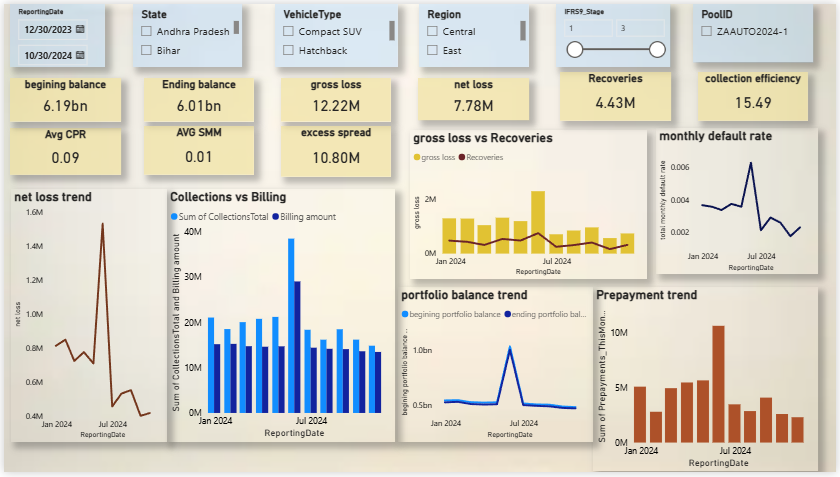

The page's visual inventory and layout, read from the dashboard file:
{"tool":"powerbi","page":{"name":"monthly loss","canvas":[1280,720],"ordinal":5},"visuals":[{"type":"slicer","fields":{"Values":["loans.Region"]},"box":[638.9,0,169.4,97.2],"z":0},{"type":"slicer","fields":{"Values":["loans.State"]},"box":[198.6,0,168.1,97.2],"z":1000},{"type":"slicer","fields":{"Values":["loans.VehicleType"]},"box":[416.7,0,188.9,97.2],"z":2000},{"type":"slicer","fields":{"Values":["loans.IFRS9_Stage"]},"box":[848.6,0,176.4,97.2],"z":3000},{"type":"slicer","fields":{"Values":["loans.PoolID"]},"box":[1059.7,0,184.7,90.3],"z":4000},{"type":"slicer","fields":{"Values":["dynamicloss.ReportingDate"]},"box":[9.7,0,145.8,97.2],"z":5000},{"type":"kpi","title":"Avg CPR","fields":{"Indicator":["dynamicloss.Avg CPR"],"TrendLine":["dpd.LoanID"]},"box":[9.7,190.3,170.8,72.2],"z":6000},{"type":"kpi","title":"Ending  balance","fields":{"Indicator":["dynamicloss.ending portfolio balance"],"TrendLine":["dpd.LoanID"]},"box":[215.3,113.9,169.4,66.7],"z":7000},{"type":"kpi","title":"Recoveries","fields":{"Indicator":["dynamicloss.Recoveries"],"TrendLine":["dpd.LoanID"]},"box":[855.6,104.2,170.8,75],"z":8000},{"type":"kpi","title":"AVG SMM ","fields":{"Indicator":["dynamicloss.AVG SMM"],"TrendLine":["dpd.LoanID"]},"box":[215.3,187.5,169.4,75],"z":9000},{"type":"kpi","title":"collection efficiency","fields":{"Indicator":["dynamicloss.total collection efficiency"],"TrendLine":["dpd.LoanID"]},"box":[1068.1,104.2,169.4,75],"z":10000},{"type":"kpi","title":"net loss ","fields":{"Indicator":["dynamicloss.net loss"],"TrendLine":["dpd.LoanID"]},"box":[637.5,113.9,170.8,65.3],"z":11000},{"type":"kpi","title":"gross loss","fields":{"Indicator":["dynamicloss.gross loss"],"TrendLine":["dpd.LoanID"]},"box":[426.4,113.9,169.4,66.7],"z":12000},{"type":"kpi","title":"excess spread ","fields":{"Indicator":["dynamicloss.excess spread"],"TrendLine":["dpd.LoanID"]},"box":[426.4,187.5,169.4,77.8],"z":13000},{"type":"kpi","title":"begining balance ","fields":{"Indicator":["dynamicloss.begining portfolio balance"],"TrendLine":["dpd.LoanID"]},"box":[9.7,113.9,170.8,66.7],"z":14000},{"type":"lineChart","title":"net loss trend","fields":{"Category":["dynamicloss.ReportingDate"],"Y":["dynamicloss.net loss"]},"box":[10.1,285.1,240.5,388.8],"z":17000},{"type":"lineStackedColumnComboChart","title":"gross loss vs Recoveries ","fields":{"Category":["dynamicloss.ReportingDate"],"Y":["dynamicloss.gross loss"],"Y2":["dynamicloss.Recoveries"]},"box":[625,194.4,363.9,229.2],"z":18000},{"type":"clusteredColumnChart","title":" Collections vs Billing","fields":{"Category":["dynamicloss.ReportingDate"],"Y":["Sum(dynamicloss.CollectionsTotal)","dynamicloss.Billing amount"]},"box":[250,284.7,351.4,388.9],"z":19000},{"type":"lineChart","title":"portfolio balance trend","fields":{"Y":["dynamicloss.begining portfolio balance","dynamicloss.ending portfolio balance"],"Category":["dynamicloss.ReportingDate"]},"box":[605.6,436.1,300,237.5],"z":20000},{"type":"lineChart","title":" monthly default rate ","fields":{"Y":["dynamicloss.total monthly default rate"],"Category":["dynamicloss.ReportingDate"]},"box":[1002.8,190.3,248.6,225],"z":21000},{"type":"columnChart","title":"Prepayment trend","fields":{"Y":["Sum(dynamicloss.Prepayments_ThisMonth)"],"Category":["dynamicloss.ReportingDate"]},"box":[905.6,436.1,345.8,283.3],"z":22000}]}

Visuals, with their boxes in screenshot pixels (x1, y1, x2, y2), scaled from the page's 1280x720 canvas onto the 840x477 screenshot:
slicer - loans.Region: locate(419, 0, 530, 64)
slicer - loans.State: locate(130, 0, 241, 64)
slicer - loans.VehicleType: locate(273, 0, 397, 64)
slicer - loans.IFRS9_Stage: locate(557, 0, 673, 64)
slicer - loans.PoolID: locate(695, 0, 817, 60)
slicer - dynamicloss.ReportingDate: locate(6, 0, 102, 64)
"Avg CPR" kpi: locate(6, 126, 118, 174)
"Ending  balance" kpi: locate(141, 75, 252, 120)
"Recoveries" kpi: locate(561, 69, 674, 119)
"AVG SMM " kpi: locate(141, 124, 252, 174)
"collection efficiency" kpi: locate(701, 69, 812, 119)
"net loss " kpi: locate(418, 75, 530, 119)
"gross loss" kpi: locate(280, 75, 391, 120)
"excess spread " kpi: locate(280, 124, 391, 176)
"begining balance " kpi: locate(6, 75, 118, 120)
"net loss trend" lineChart: locate(7, 189, 164, 446)
"gross loss vs Recoveries " lineStackedColumnComboChart: locate(410, 129, 649, 281)
" Collections vs Billing" clusteredColumnChart: locate(164, 189, 395, 446)
"portfolio balance trend" lineChart: locate(397, 289, 594, 446)
" monthly default rate " lineChart: locate(658, 126, 821, 275)
"Prepayment trend" columnChart: locate(594, 289, 821, 476)
